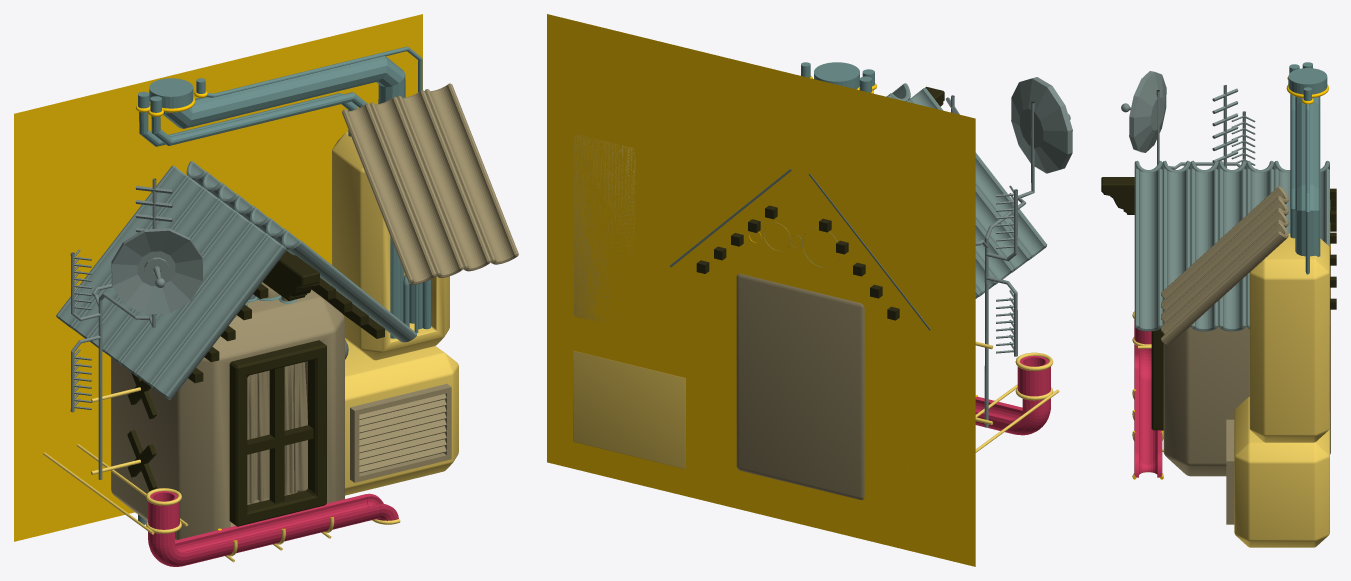
Rendered from 4 fixed.fbx.
3 views of the same model, side by side, from view 1: azimuth 30°, elevation 25°; view 2: azimuth 150°, elevation 25°; view 3: azimuth 270°, elevation 25° (orthographic). The views are drawn at different scales.
Visible parts, largest first — view 1: Cube.036; view 2: Cube.036; view 3: Cube.036.
Boxes of the visible parts, x1=… form: Cube.036: x1=14, y1=14, x2=518, y2=566; Cube.036: x1=547, y1=14, x2=1072, y2=566; Cube.036: x1=1101, y1=62, x2=1336, y2=547.
Bounding box in the file's own units: 100 × 100 × 56.51.
